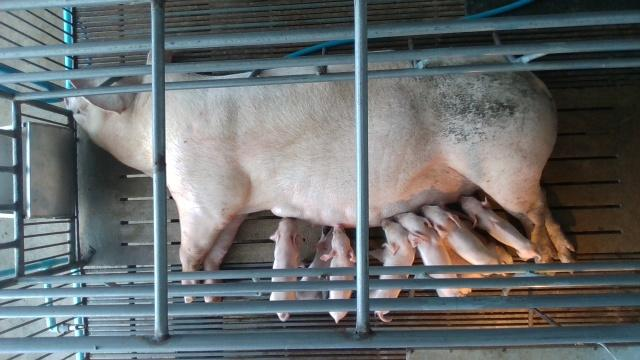piglet: (420, 203, 507, 277), (394, 212, 462, 296), (460, 193, 541, 262), (370, 218, 417, 324), (268, 217, 301, 325), (324, 225, 356, 322), (295, 230, 332, 302)
sow-sleep-lactate: (65, 49, 575, 302)
